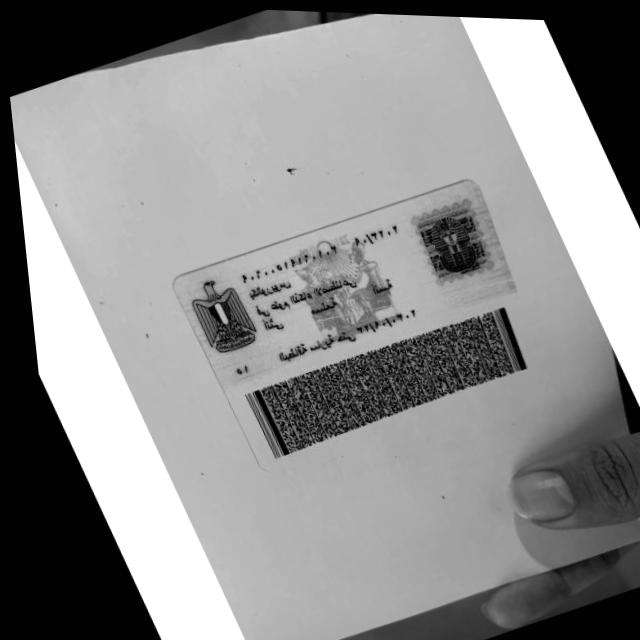id_card: (173, 179, 528, 465)
